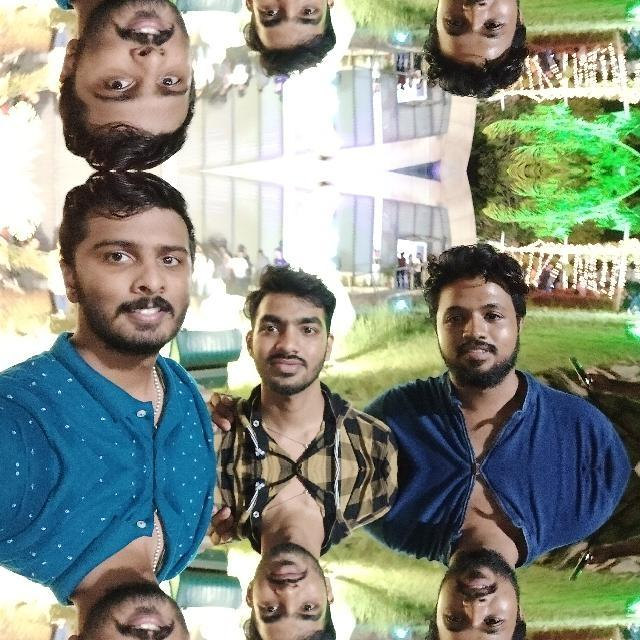person: (42, 170, 210, 404), (398, 208, 550, 408), (42, 0, 209, 170), (230, 240, 344, 448), (397, 0, 550, 131), (42, 532, 209, 640), (230, 488, 344, 640), (397, 528, 550, 640), (230, 0, 344, 100)
